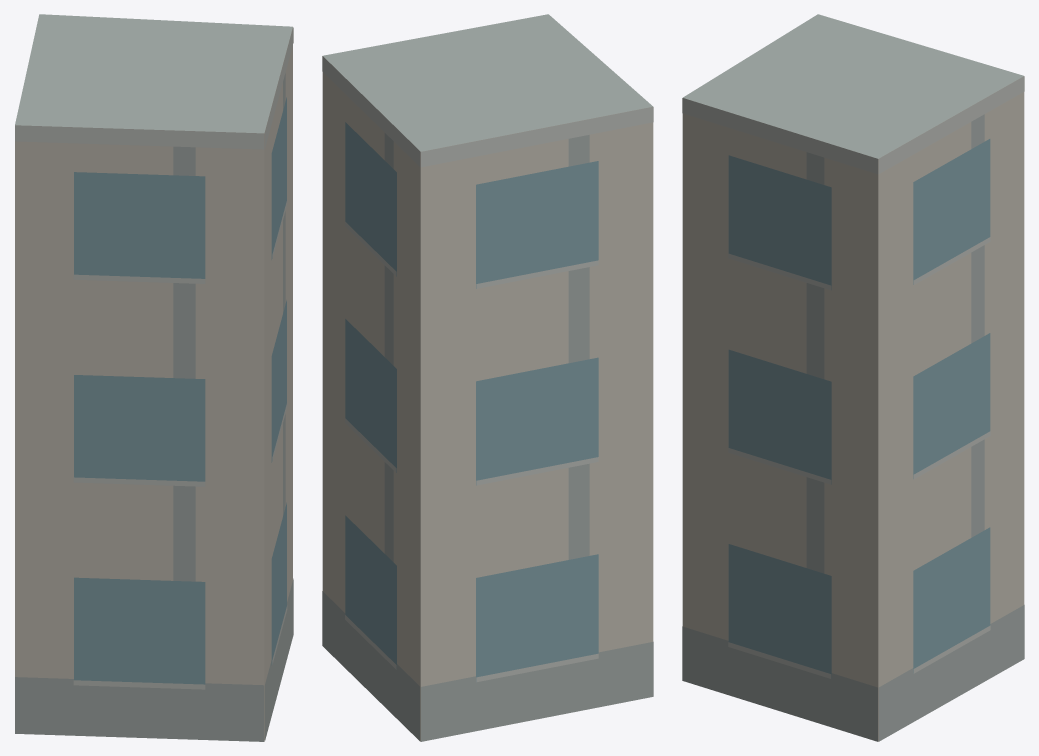
File: survey-upis-32571572.glb
3 renders of one model, left to right at view 1: azimuth 30°, elevation 25°; view 2: azimuth 150°, elevation 25°; view 3: azimuth 270°, elevation 25°, orthographic. The views are drawn at different scales.
Parts seen in each view (by area): view 1: survey-upis-32571572.tmp; view 2: survey-upis-32571572.tmp; view 3: survey-upis-32571572.tmp.
Part boxes in pixels (x1,y1,x2,y2): survey-upis-32571572.tmp: [15, 14, 293, 741]; survey-upis-32571572.tmp: [322, 14, 653, 741]; survey-upis-32571572.tmp: [682, 14, 1024, 741].
Bounding box in the file's own units: 4.88 × 9.15 × 4.87.
